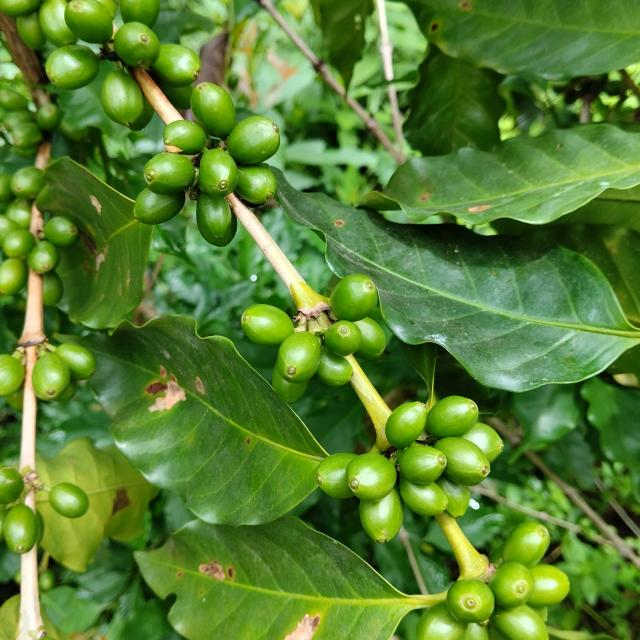green: (435, 438, 491, 486), (190, 81, 236, 138), (227, 115, 280, 164), (346, 454, 397, 503), (44, 44, 99, 89), (360, 489, 404, 544), (100, 69, 143, 125), (329, 274, 378, 322), (276, 331, 321, 383), (142, 152, 195, 195), (426, 396, 479, 438), (241, 304, 294, 346), (196, 192, 237, 246), (490, 562, 536, 610), (503, 522, 551, 568), (113, 21, 160, 67), (151, 43, 201, 86), (447, 580, 495, 624), (64, 0, 112, 43), (400, 476, 449, 517), (386, 402, 428, 449), (492, 606, 550, 640), (198, 148, 238, 197), (399, 445, 447, 485), (31, 352, 70, 401), (316, 454, 358, 499), (417, 603, 468, 640), (133, 188, 185, 224), (529, 565, 571, 609), (2, 504, 37, 556), (38, 0, 76, 46), (235, 163, 277, 204), (462, 423, 505, 463), (53, 344, 95, 381), (435, 476, 471, 519), (163, 119, 206, 155), (316, 346, 353, 387), (48, 483, 89, 519), (272, 364, 309, 403), (324, 320, 362, 357), (354, 317, 386, 360), (15, 11, 45, 49), (27, 240, 59, 274), (43, 216, 78, 246), (0, 0, 40, 16)
